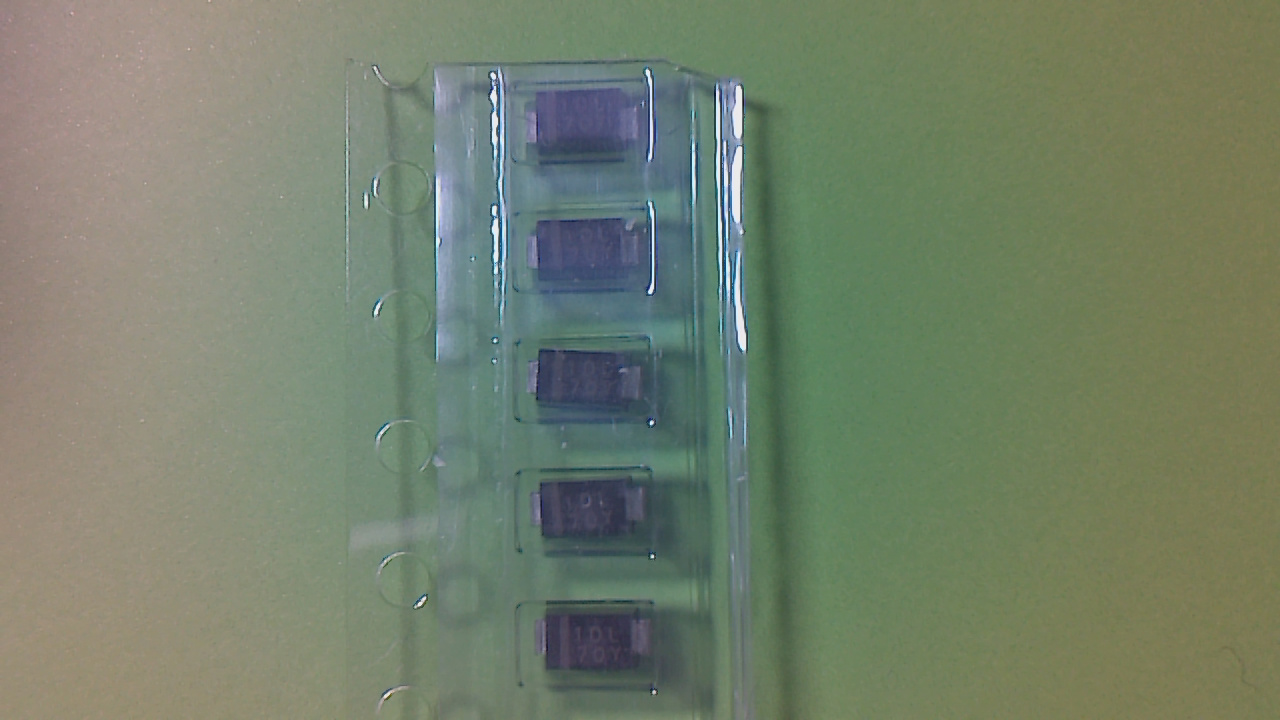Diode: (536, 612, 654, 679), (525, 226, 647, 290), (530, 349, 645, 415), (531, 98, 645, 162), (529, 485, 647, 544)
